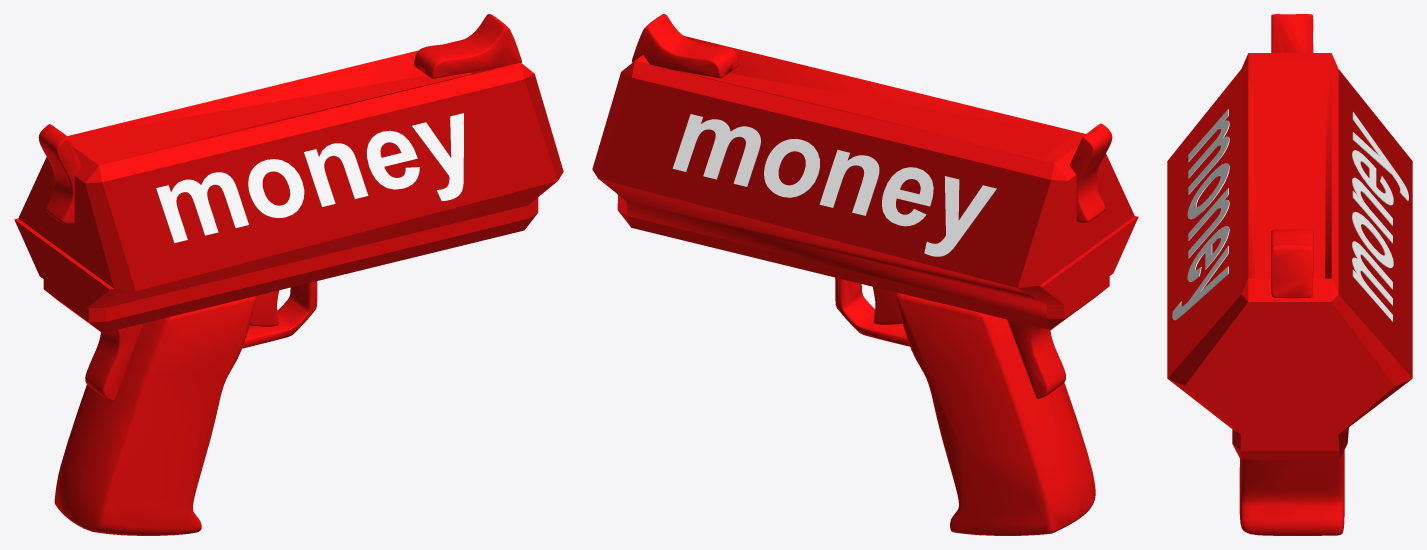
Rendered from moneygun3.fbx.
The picture shows the model from 3 angles, left to right: view 1: azimuth 30°, elevation 25°; view 2: azimuth 150°, elevation 25°; view 3: azimuth 270°, elevation 25°; orthographic projection. The views are drawn at different scales.
Parts seen in each view (by area): view 1: Box003, pCube2, Text001, pCube019, pCube018, pCube4, pCube5, pCube3; view 2: Box003, pCube2, Text003, pCube019, pCube4, pCube018, pCube5, pCube3; view 3: Box003, pCube2, Text001, Text003, pCube019, pCube018.
Part boxes in pixels (box(x1,y1,x2,y2)): Box003: box(14, 39, 563, 333); pCube2: box(54, 296, 255, 535); Text001: box(156, 113, 463, 243); pCube019: box(414, 14, 521, 78); pCube018: box(38, 124, 81, 223); pCube4: box(85, 323, 143, 401); pCube5: box(242, 281, 317, 348); pCube3: box(250, 290, 278, 326); Box003: box(592, 36, 1138, 329); pCube2: box(896, 293, 1095, 535); Text003: box(672, 114, 996, 256); pCube019: box(632, 14, 738, 78); pCube4: box(1007, 319, 1065, 398); pCube018: box(1069, 123, 1112, 222); pCube5: box(835, 277, 909, 346); pCube3: box(873, 287, 902, 324); Box003: box(1167, 53, 1412, 459); pCube2: box(1239, 450, 1344, 535); Text001: box(1172, 109, 1229, 320); Text003: box(1352, 112, 1408, 321); pCube019: box(1271, 229, 1313, 298); pCube018: box(1271, 14, 1313, 52).
Bounding box in the file's own units: 117 × 101 × 48.48.
